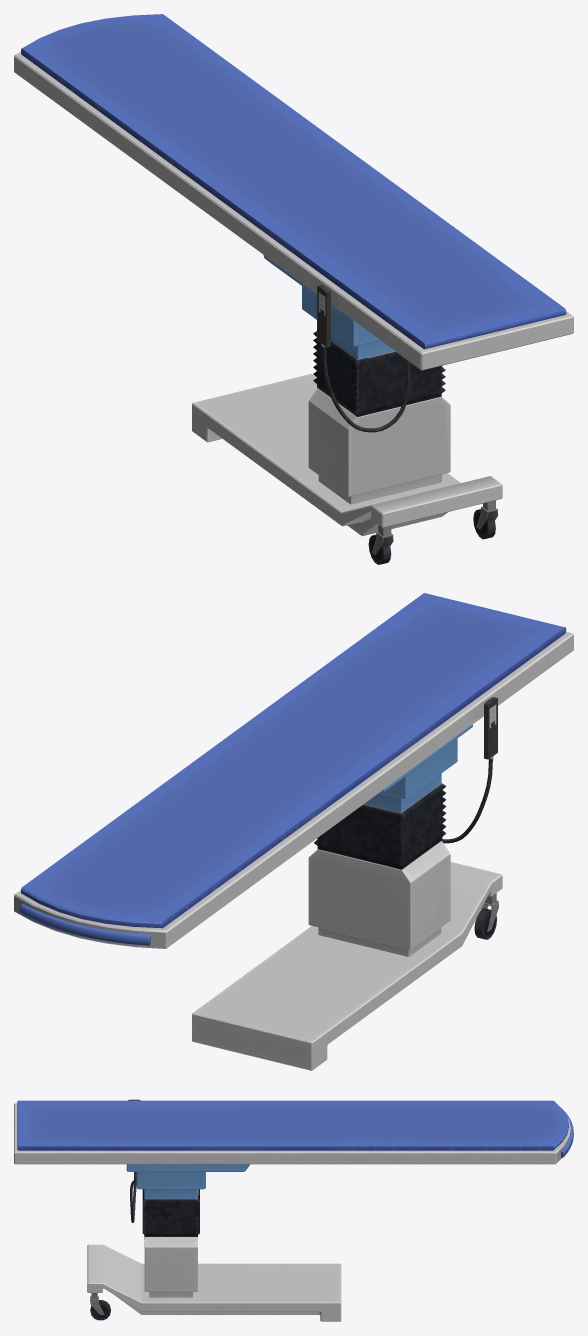
Rendered from OperatinTable.fbx.
3 renders of one model, top to bottom at view 1: azimuth 30°, elevation 25°; view 2: azimuth 150°, elevation 25°; view 3: azimuth 270°, elevation 25°, orthographic. The views are drawn at different scales.
Visible parts, largest first — view 1: OperatinTable; view 2: OperatinTable; view 3: OperatinTable.
Part boxes in pixels (bbox=[...]): OperatinTable: bbox=[14, 14, 573, 564]; OperatinTable: bbox=[14, 593, 573, 1070]; OperatinTable: bbox=[14, 1099, 573, 1321].
Bounding box in the file's own units: 52.95 × 83.86 × 238.
